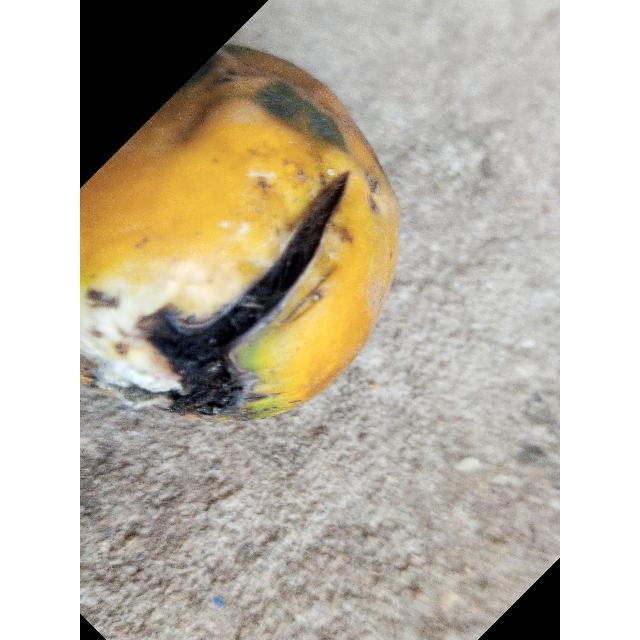damaged: (80, 45, 400, 421)
